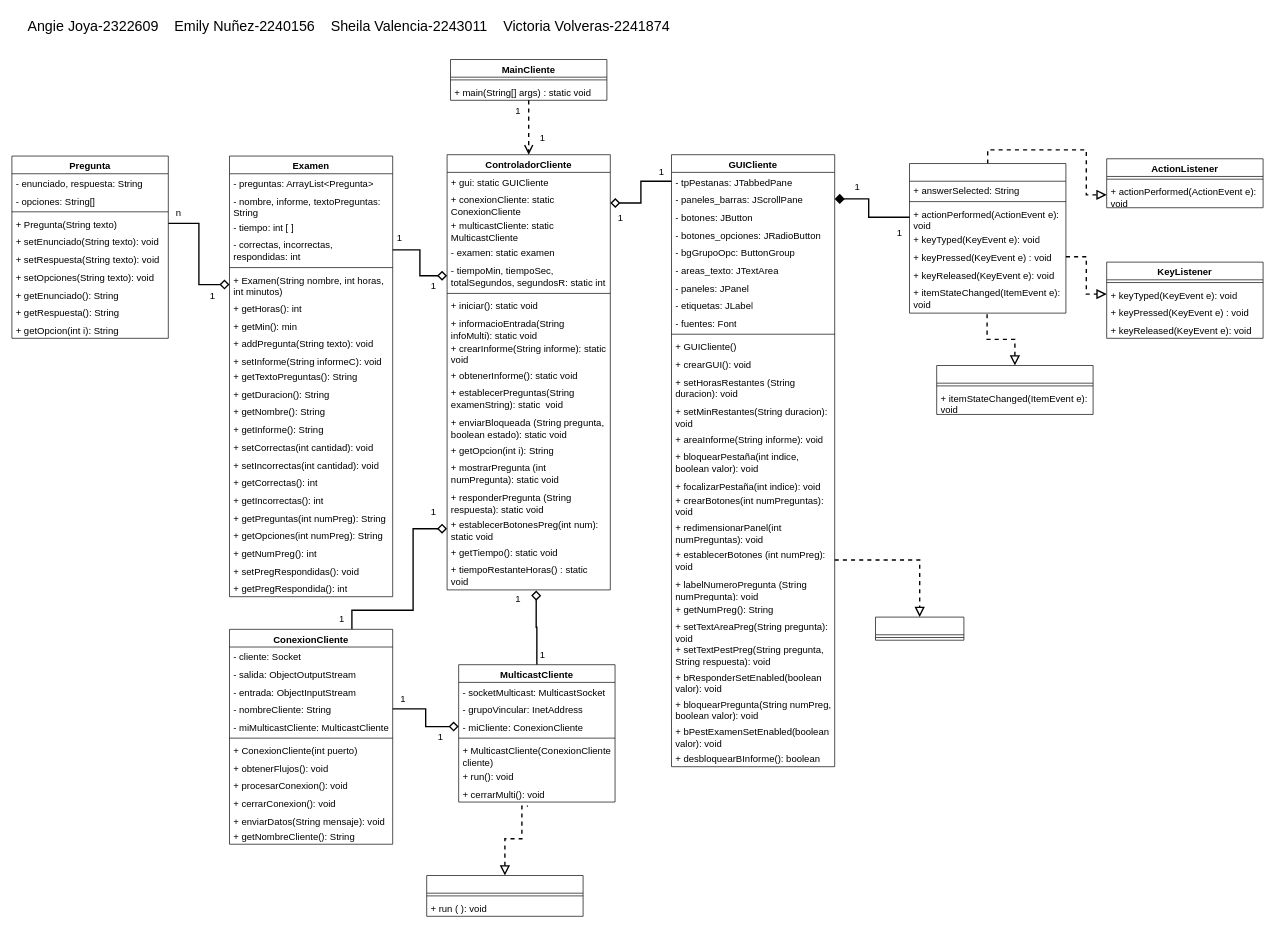
Image size: 1275x930. Some labels were removed from this diagram. Here are the shapes that lost their labels. From the top down, the box of each, then its label:
(909, 163, 1066, 313): ManejadoraEvento
(936, 365, 1093, 414): ItemListener
(875, 616, 964, 640): JFrame
(426, 875, 583, 916): Thread
